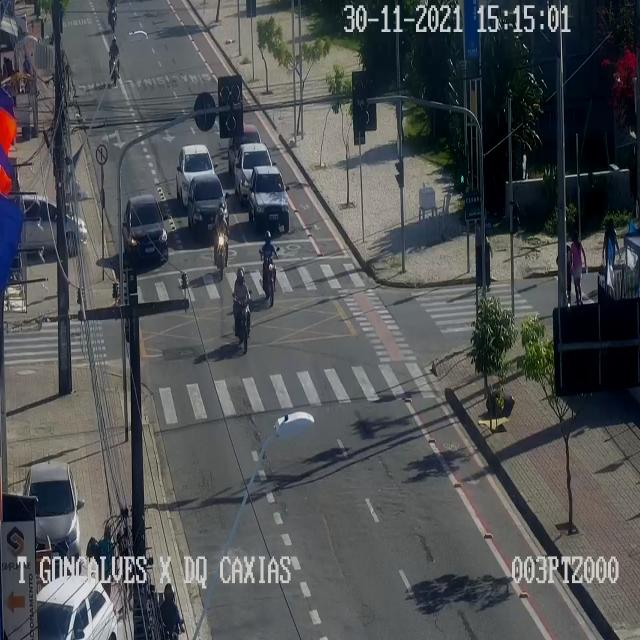Car: (26, 462, 80, 570), (36, 575, 116, 639), (20, 195, 86, 256), (122, 194, 168, 261), (248, 166, 288, 230), (187, 173, 228, 234), (176, 144, 214, 204), (234, 142, 272, 199), (228, 124, 262, 168)
Motorcycle: (232, 267, 252, 351), (158, 583, 184, 639), (260, 230, 278, 304), (214, 203, 228, 277), (109, 34, 119, 84), (106, 1, 115, 30)
